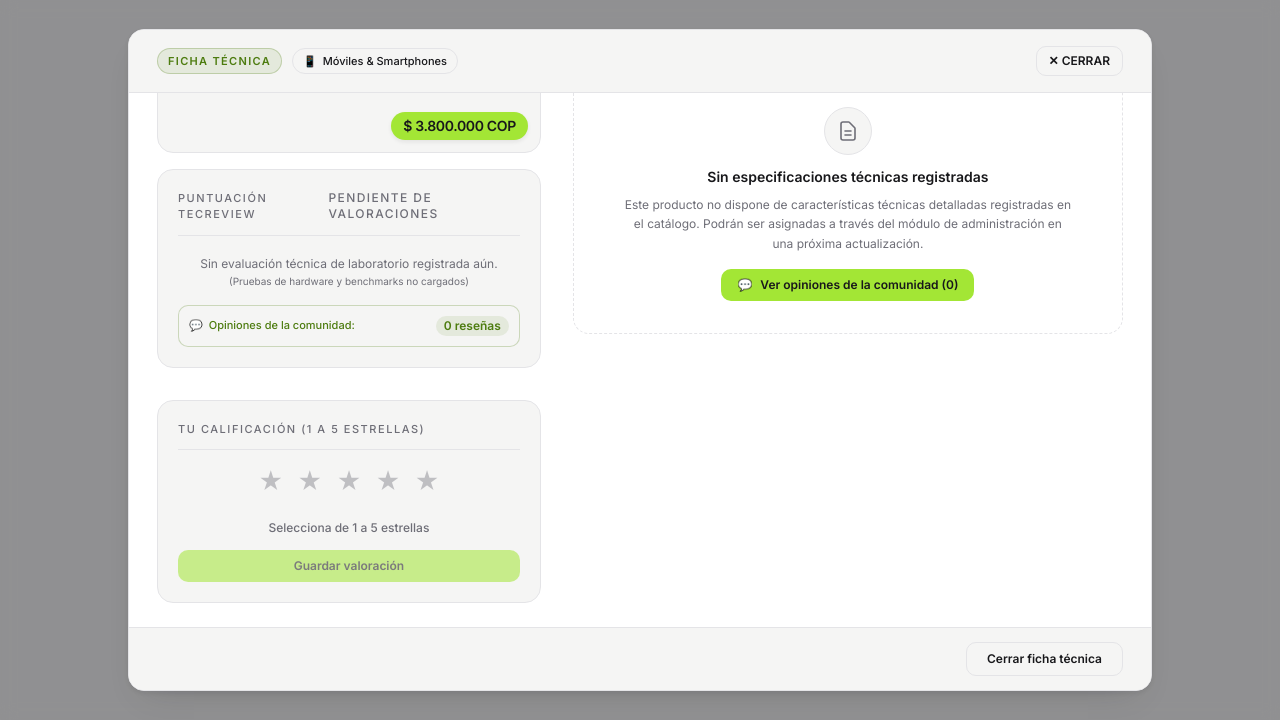
Scenario: Componente FichaTecnicaModal — Fase 4.6: Sistema Real de Valoraciones › muestra estado de error si el servicio de la API falla
(page scrolled)
Click the button named "Calificar con 3 estrellas": x=349, y=482 [332,462,366,502]
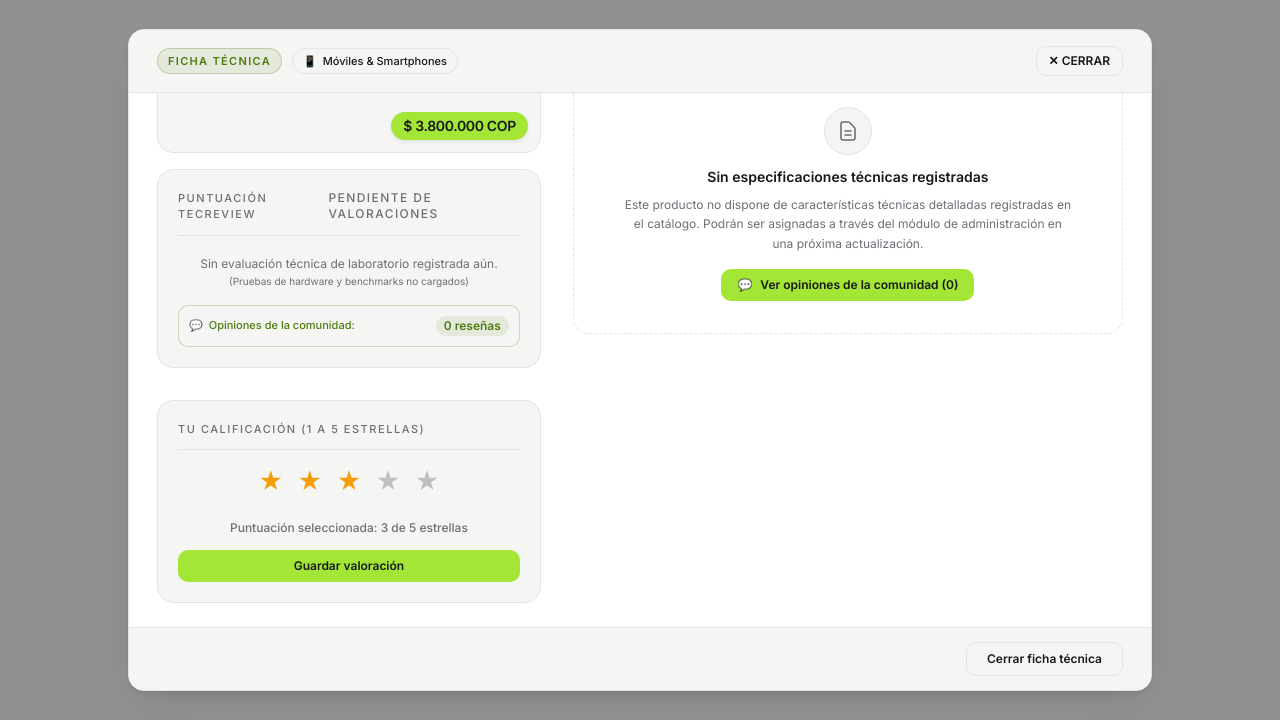
Click the button "Guardar valoración": x=349, y=566 [178,550,520,582]
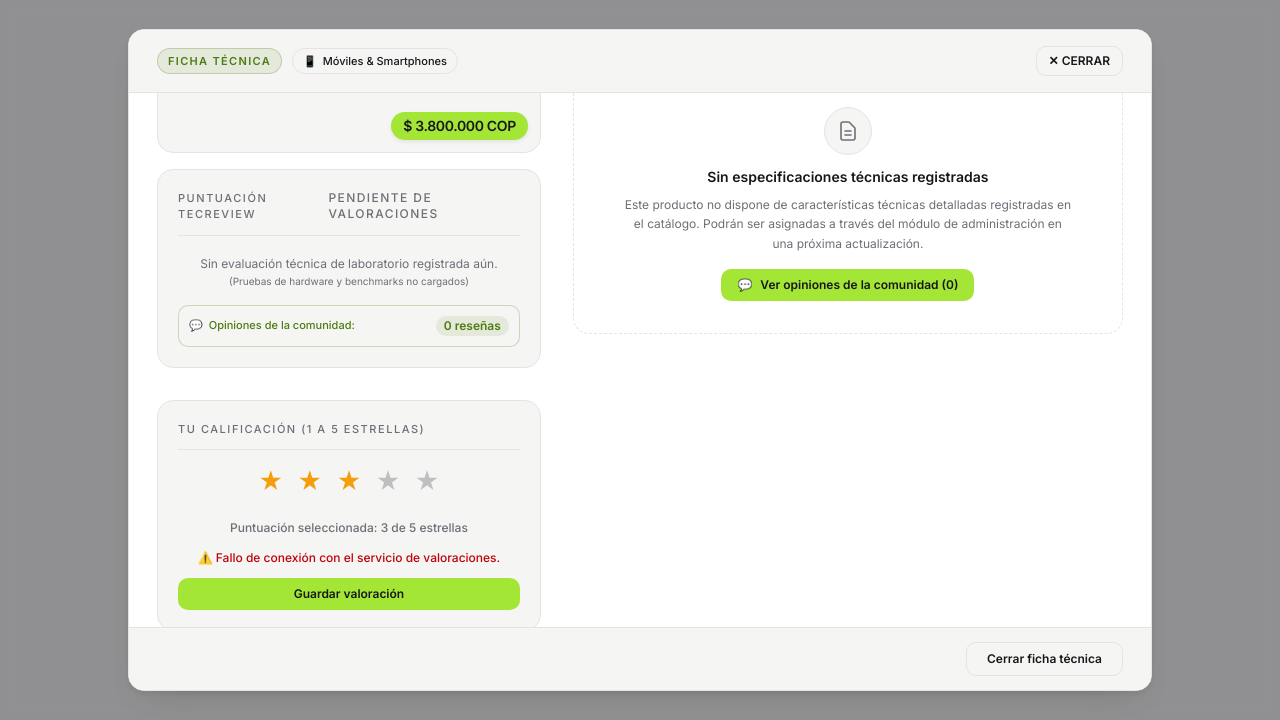
Check: the text "⚠️ Fallo de conexión con el servicio de valoraciones." is shown, box [178,550,520,566]
